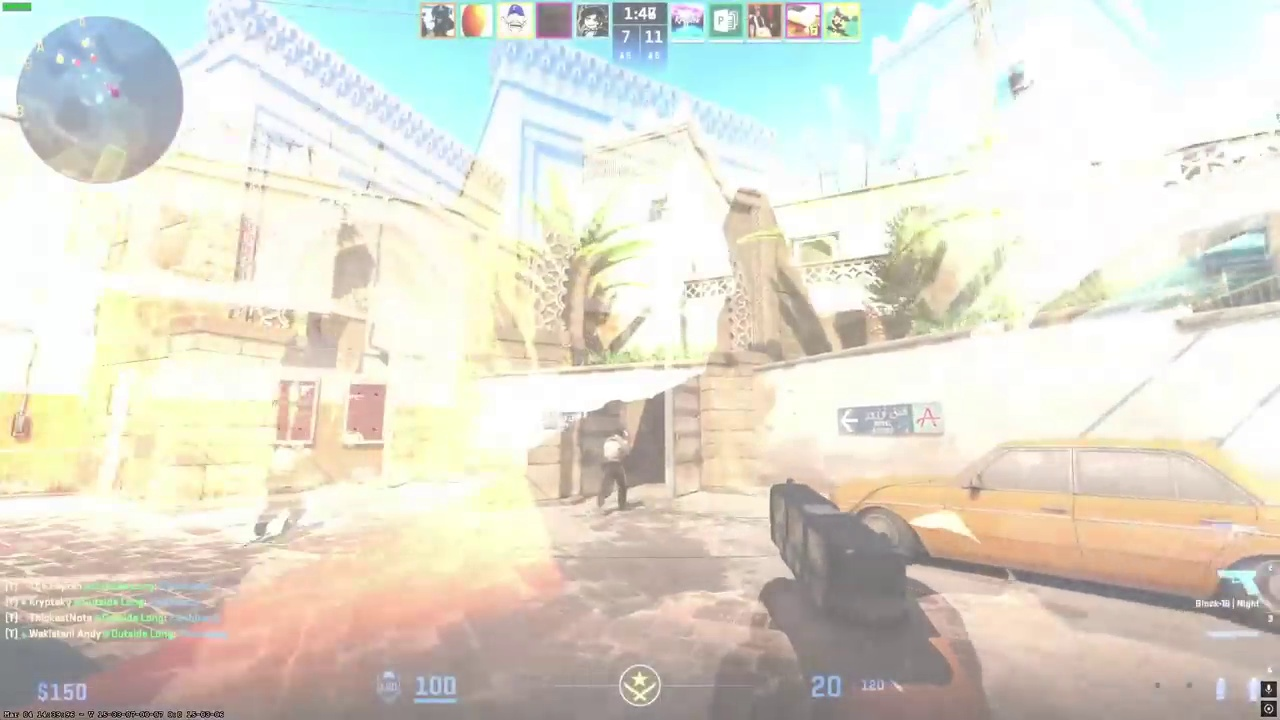Terrorist: (597, 427, 630, 512)
